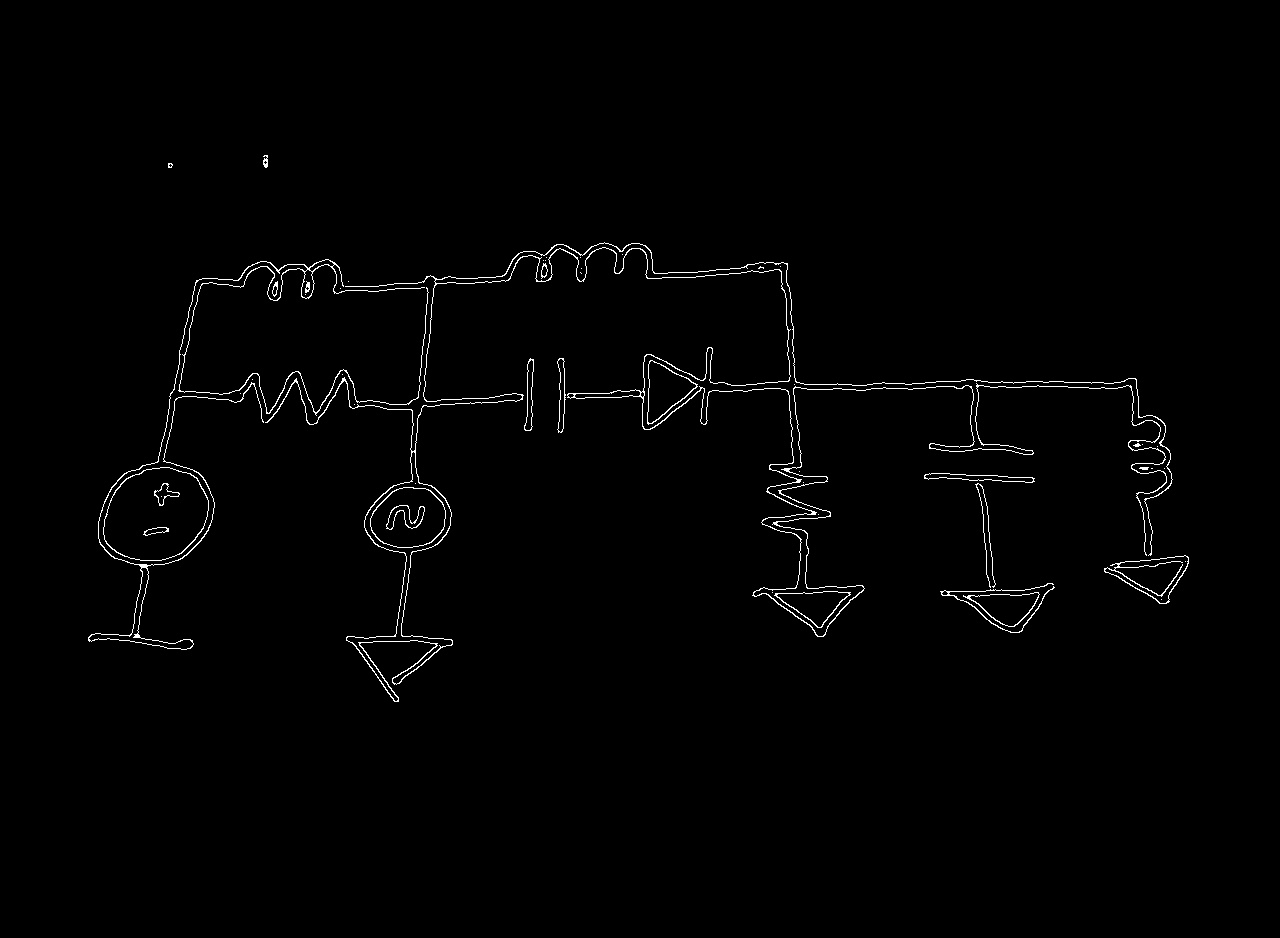capacitor: (916, 423, 1040, 504), (492, 348, 589, 439)
diode: (616, 339, 739, 438)
ground2: (336, 616, 462, 751), (934, 572, 1062, 695), (745, 577, 867, 703), (83, 616, 203, 734), (1095, 538, 1199, 662)
inductor: (481, 238, 668, 290), (211, 252, 370, 311), (1123, 401, 1183, 524)
resistor: (201, 363, 381, 429), (750, 440, 841, 564)
signal: (357, 467, 458, 570)
voltage: (92, 444, 218, 598)
